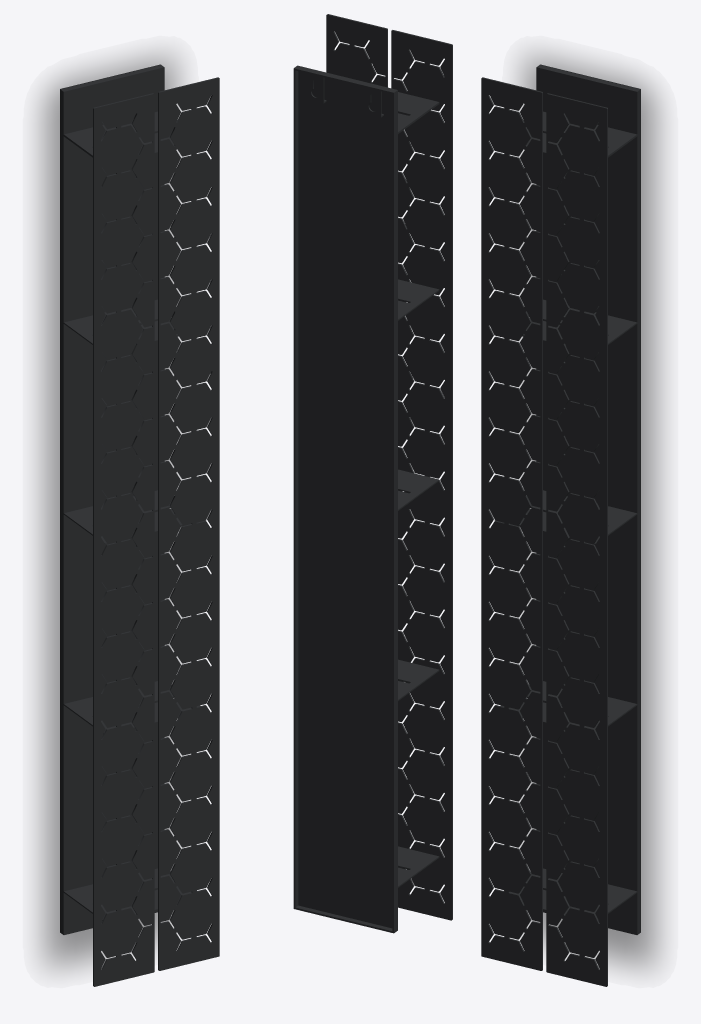
The model's file is bee-prima.e330a0dfe4.ar.glb.
3 renders of one model, left to right at view 1: azimuth 30°, elevation 25°; view 2: azimuth 150°, elevation 25°; view 3: azimuth 330°, elevation 25°, orthographic.
Visible parts, largest first — view 1: NAUO1, object 2; view 2: NAUO1; view 3: NAUO1, object 2.
Part boxes in pixels (x1,y1,x2,y2): NAUO1: (60, 64, 219, 986); object 2: (39, 54, 181, 969); NAUO1: (293, 14, 452, 933); NAUO1: (481, 64, 640, 986); object 2: (519, 54, 661, 969).
Size of the model in its own units: 0.23 by 1.08 by 0.096.
2 materials, 1 textured.
